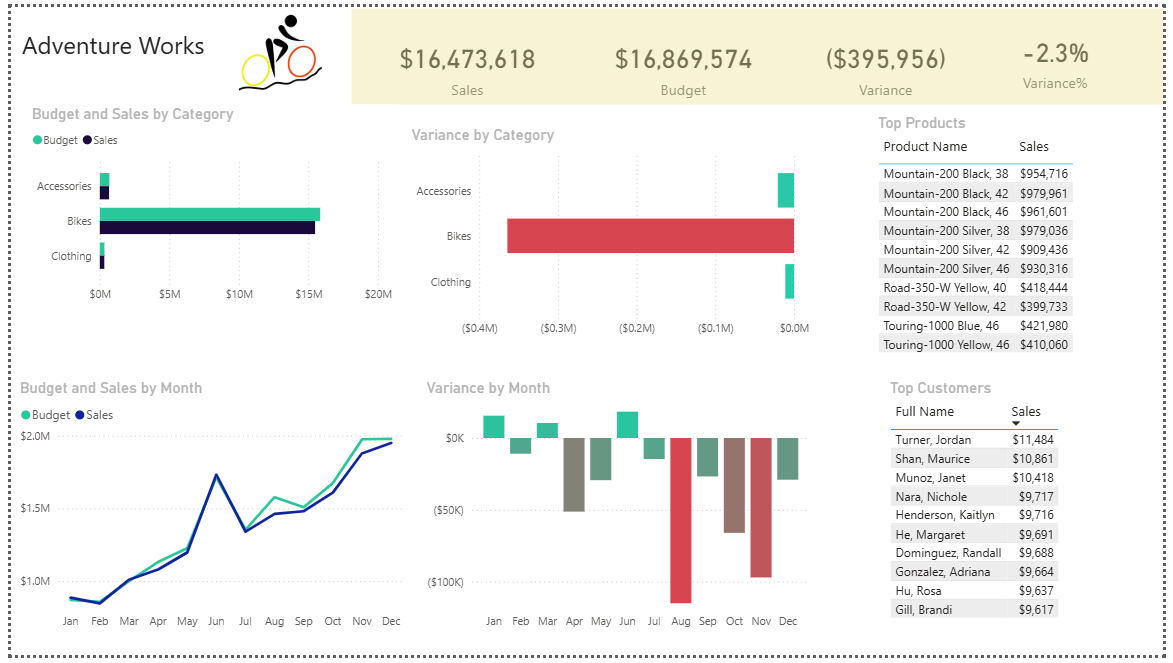

This screenshot's page, from the dashboard's own definition file:
{"tool":"powerbi","page":{"name":"Page 1","canvas":[1280,720],"ordinal":0},"visuals":[{"type":"textbox","box":[0,0,220,108.3],"z":0},{"type":"image","box":[220,1.7,158.3,91.7],"z":1000},{"type":"card","fields":{"Values":["Sales.Sales"]},"box":[386.7,1.7,240,130],"z":2000},{"type":"card","fields":{"Values":["Budget.Budget"]},"box":[626.7,1.7,240,130],"z":3000},{"type":"card","fields":{"Values":["Budget.Variance"]},"box":[851.7,1.7,240,130],"z":4000},{"type":"card","fields":{"Values":["Budget.Variance%"]},"box":[1040,0,240,118.3],"z":5000},{"type":"shape","box":[378.3,1.7,901.7,106.7],"z":6000},{"type":"clusteredBarChart","fields":{"Y":["Budget.Budget","Sales.Sales"],"Category":["Product.Category","Product.SubCategory"]},"box":[18.3,108.3,410,228.3],"z":7000},{"type":"clusteredBarChart","fields":{"Y":["Budget.Variance"],"Category":["Product.Category","Product.SubCategory"]},"box":[440,131.7,451.7,243.3],"z":8000},{"type":"lineChart","fields":{"Category":["Calendar.Month"],"Y":["Budget.Budget","Sales.Sales"]},"box":[5,413.3,435,286.7],"z":9000},{"type":"columnChart","fields":{"Category":["Calendar.Month"],"Y":["Budget.Variance"]},"box":[456.7,413.3,435,286.7],"z":10000},{"type":"tableEx","title":"Top Products","fields":{"Values":["Product.ProductName","Sales.Sales"]},"box":[958.3,118.3,321.7,295],"z":11000},{"type":"tableEx","title":"Top Customers","fields":{"Values":["Customer.FullName","Sales.Sales"]},"box":[971.7,413.3,275,286.7],"z":12000}]}

Visuals, with their boxes in screenshot pixels (x1, y1, x2, y2), scaled from the page's 1280x720 canvas onto the 1173x663 screenshot:
textbox: (left=0, top=0, right=202, bottom=100)
image: (left=202, top=2, right=347, bottom=86)
card - Sales.Sales: (left=354, top=2, right=574, bottom=121)
card - Budget.Budget: (left=574, top=2, right=794, bottom=121)
card - Budget.Variance: (left=781, top=2, right=1000, bottom=121)
card - Budget.Variance%: (left=953, top=0, right=1172, bottom=109)
shape: (left=347, top=2, right=1172, bottom=100)
clusteredBarChart - Budget.Budget x Sales.Sales: (left=17, top=100, right=392, bottom=310)
clusteredBarChart - Budget.Variance x Product.Category: (left=403, top=121, right=817, bottom=345)
lineChart - Calendar.Month x Budget.Budget: (left=5, top=381, right=403, bottom=645)
columnChart - Calendar.Month x Budget.Variance: (left=419, top=381, right=817, bottom=645)
"Top Products" tableEx: (left=878, top=109, right=1172, bottom=381)
"Top Customers" tableEx: (left=890, top=381, right=1142, bottom=645)
